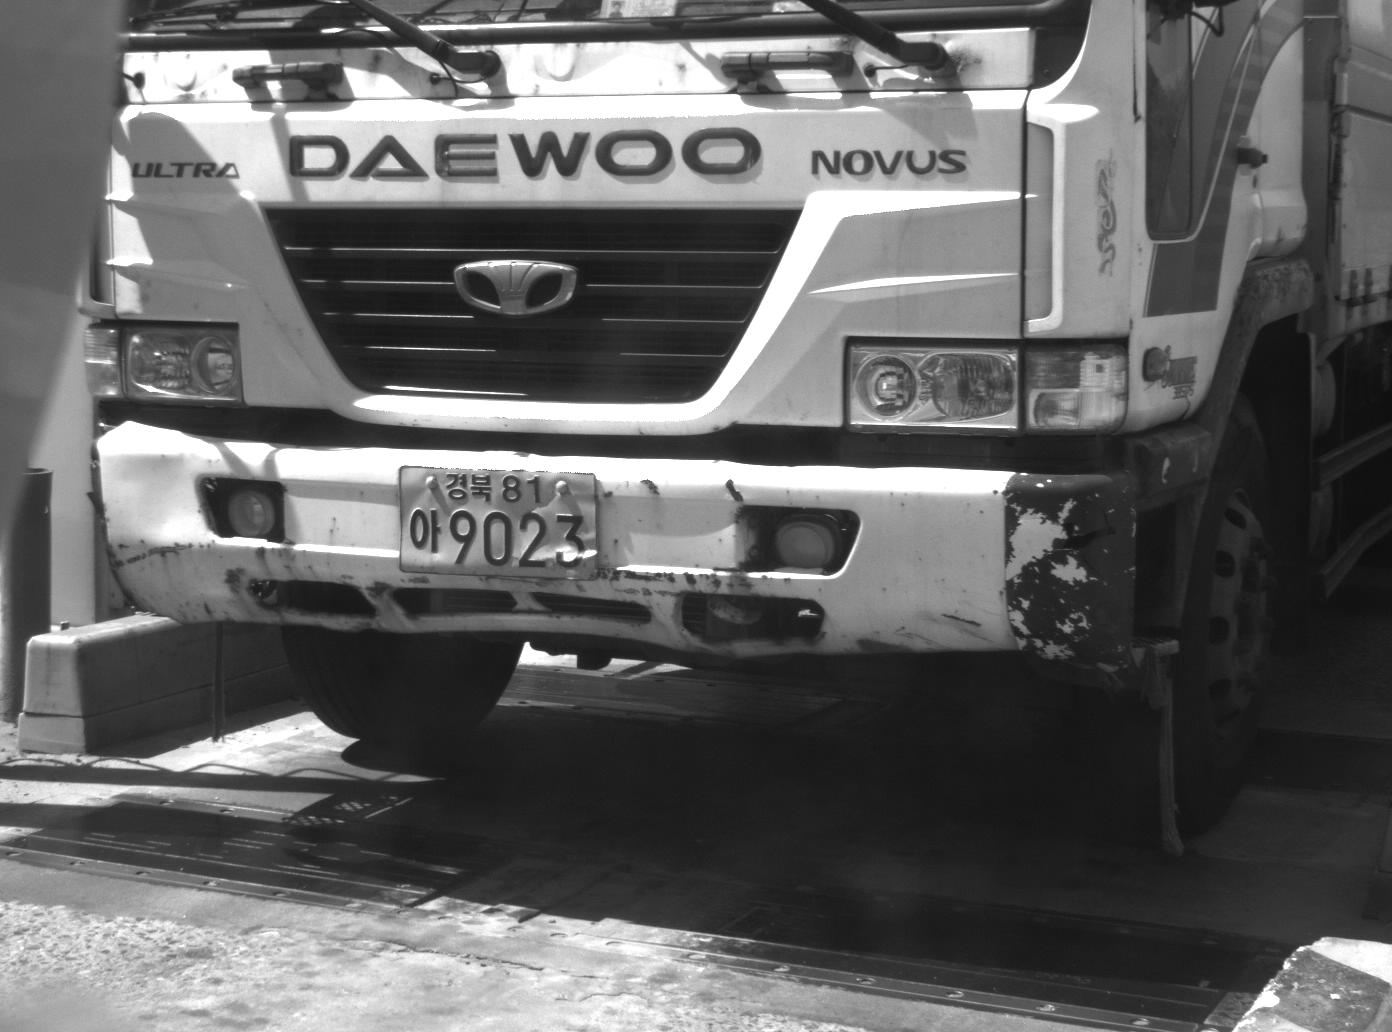car: (65, 1, 1389, 867)
plate: (396, 464, 603, 580)
